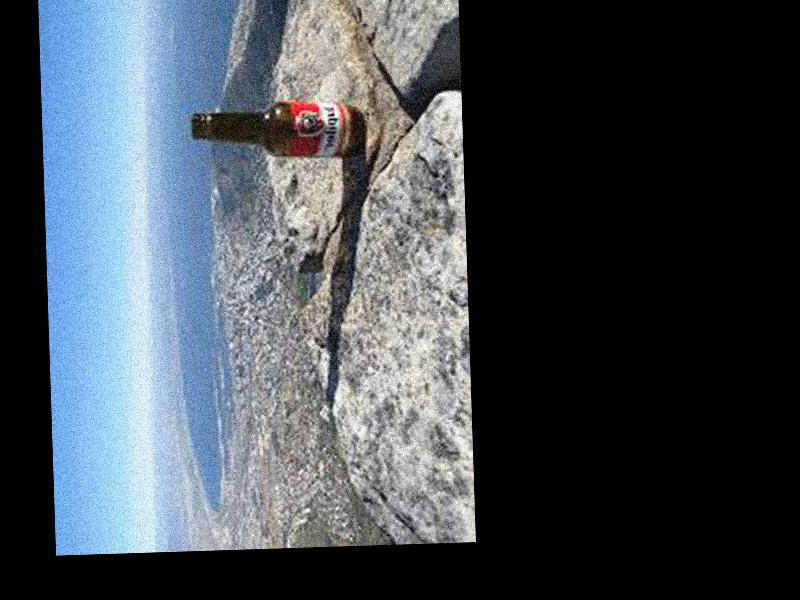Beer: (189, 98, 359, 162)
